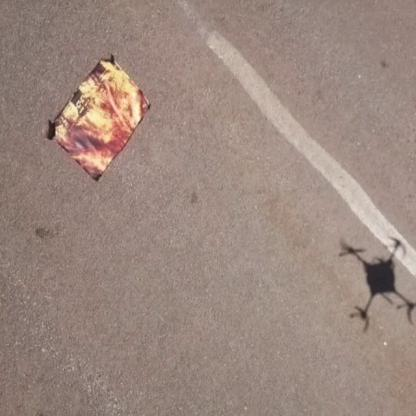fire-poster: (48, 51, 152, 183)
